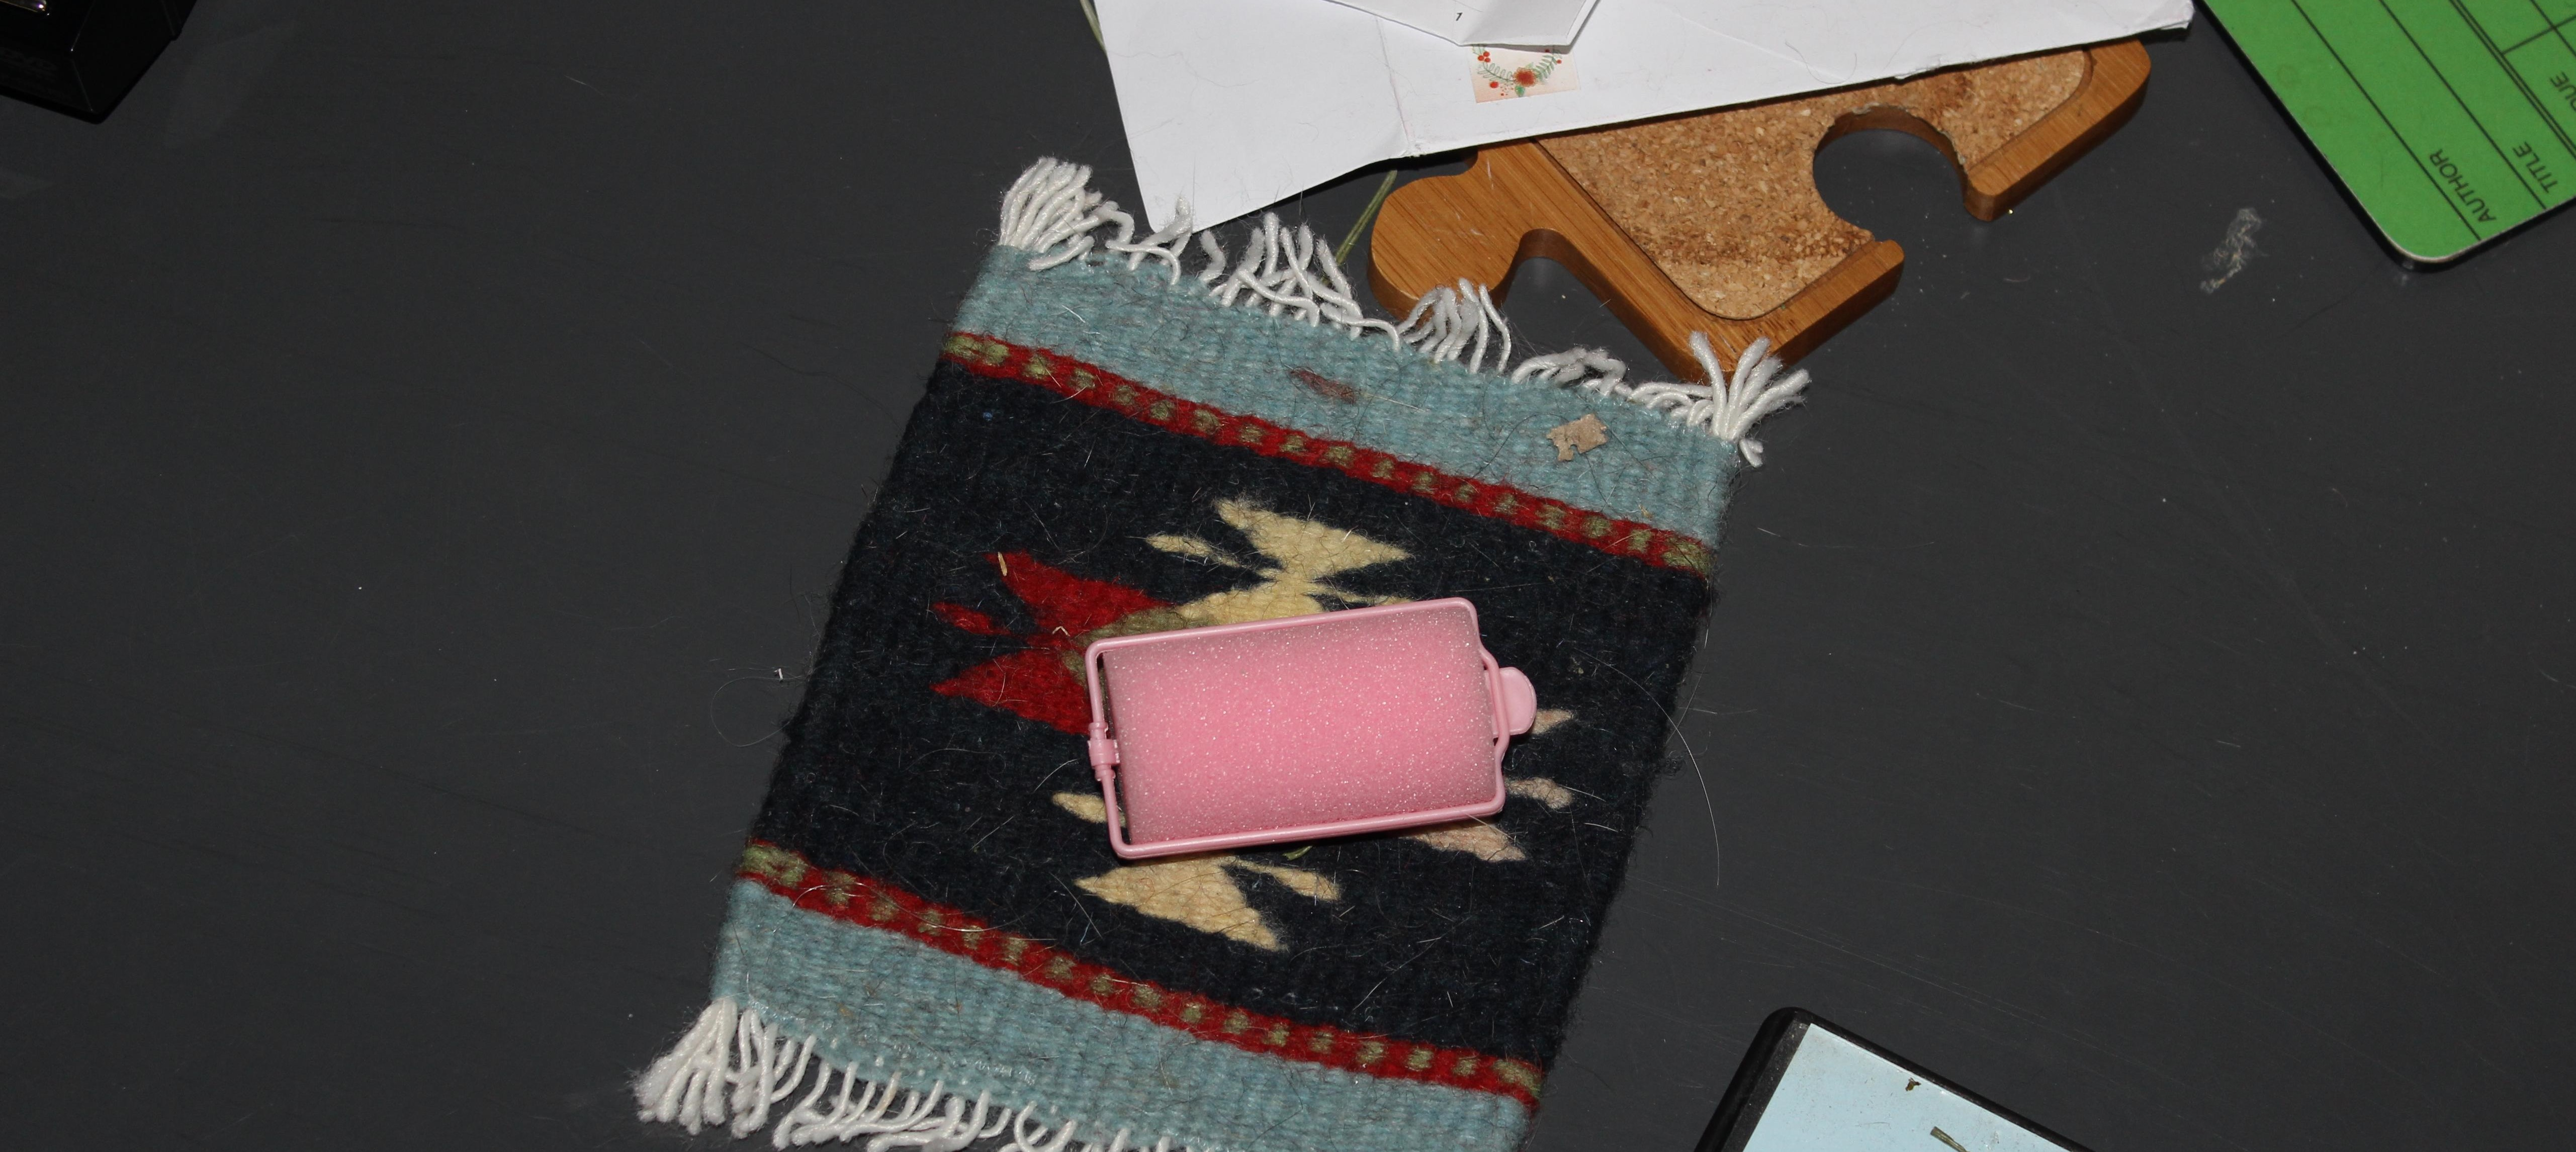hairRoller: (1043, 585, 1569, 892)
